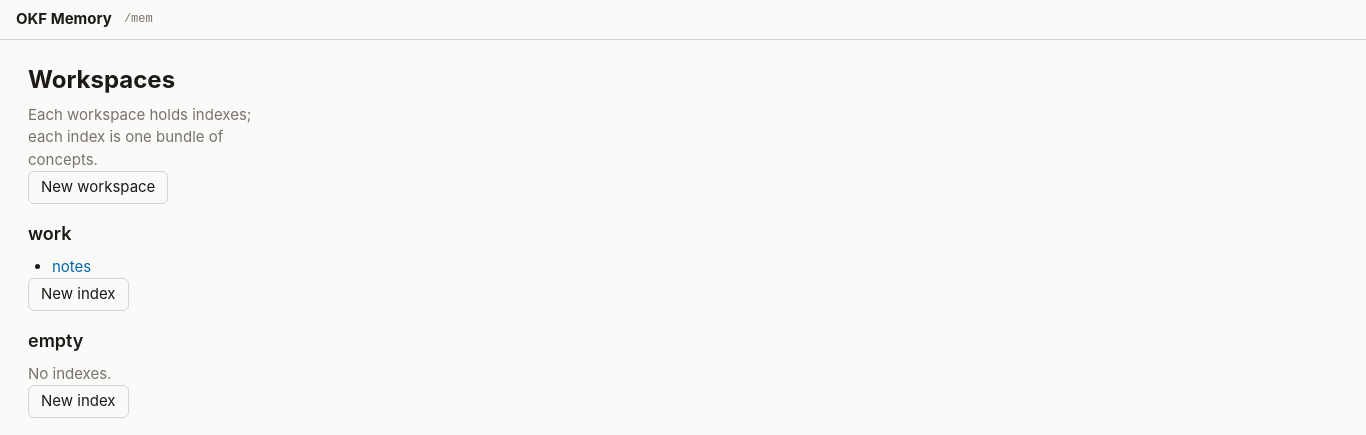
Test case: workspaces › lists workspaces and opens an index
The width and height of the screenshot is (1366, 435).
Expected: the heading "Workspaces" is shown, left=28, top=64, right=175, bottom=94
Expected: the heading "empty" is shown, left=28, top=330, right=83, bottom=350
Click the link "notes": (72, 266) left=52, top=256, right=91, bottom=276
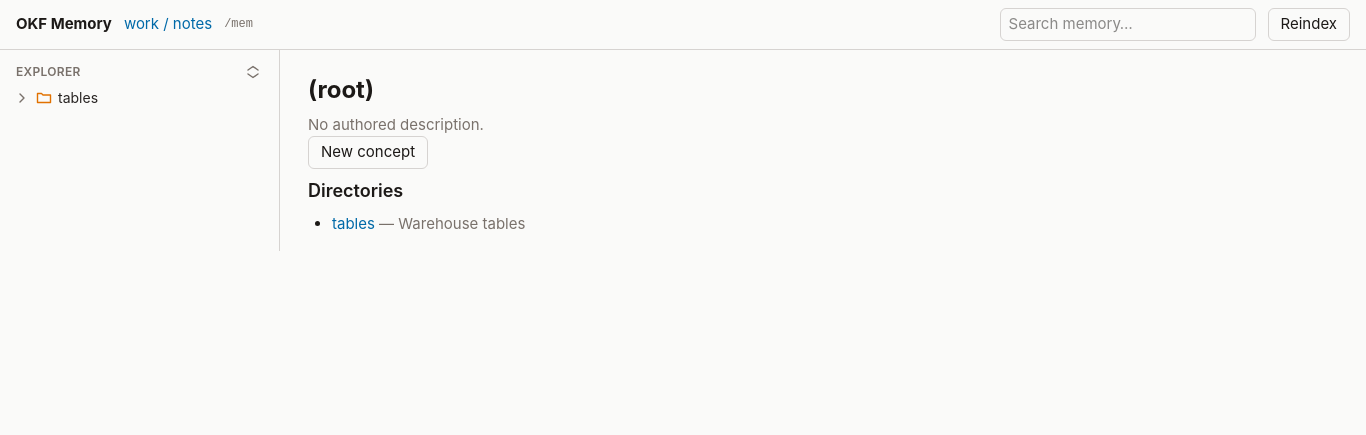
Expected: the heading "(root)" is shown, left=308, top=74, right=374, bottom=104
Expected: the link "work / notes" is shown, left=124, top=13, right=212, bottom=36
